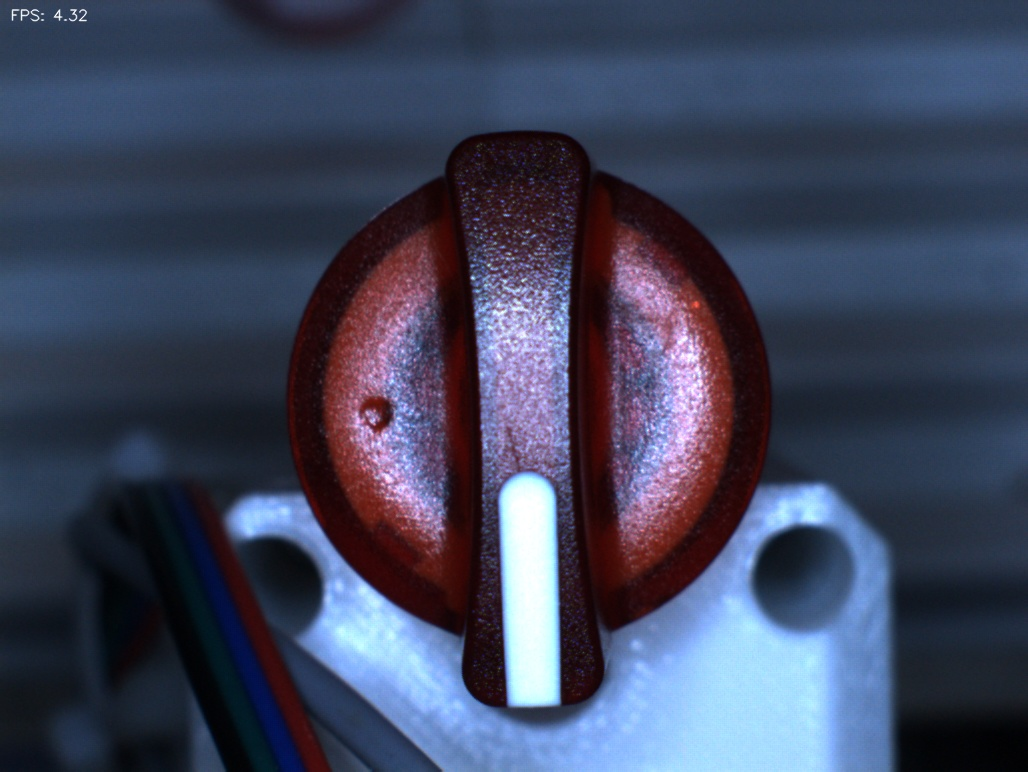Choc: (339, 377, 414, 452)
